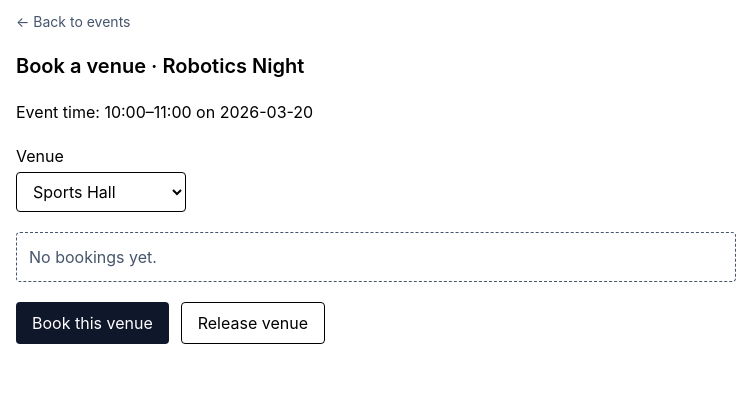
Scenario: OfficerVenuePage › shows a release failure without hiding the current booking
What coordinates should you click on to do the following:
click the button "Release venue"
I would click on:
 (253, 323)
Its box is left=181, top=302, right=325, bottom=344.
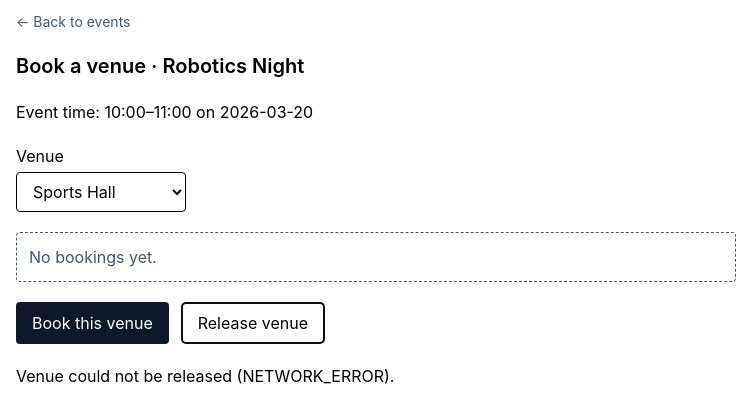
Expected: the message reads "Venue could not be released (NETWORK_ERROR).", left=16, top=366, right=394, bottom=386
